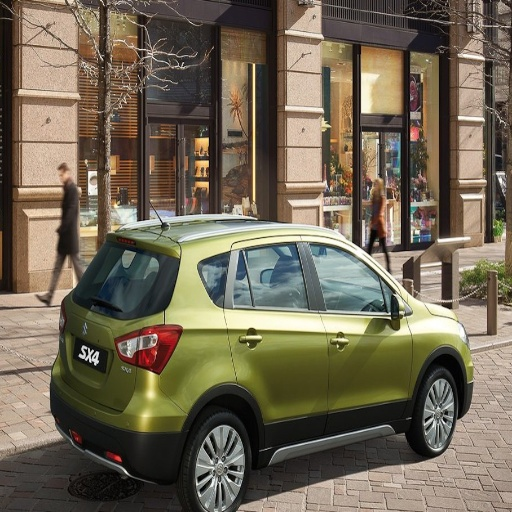back_bumper: (51, 367, 189, 480)
back_right_door: (226, 234, 327, 449)
tailgate: (64, 303, 132, 403)
trunk: (95, 324, 138, 406)
